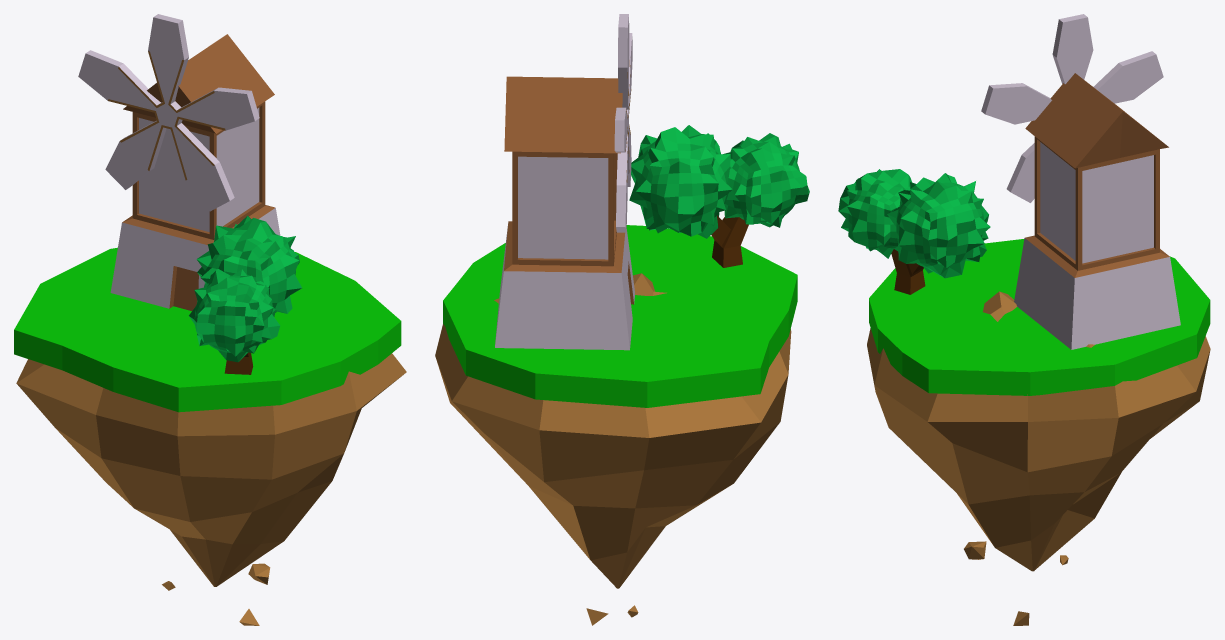
Rendered from mill.fbx.
The picture shows the model from 3 angles, left to right: view 1: azimuth 30°, elevation 25°; view 2: azimuth 150°, elevation 25°; view 3: azimuth 270°, elevation 25°; orthographic projection. The views are drawn at different scales.
Visible parts, largest first — view 1: Island, Green_platform, Mill, propeller, Tree; view 2: Island, Green_platform, Mill, Tree, propeller; view 3: Island, Mill, Green_platform, Tree, propeller.
Boxes of the visible parts, x1=… form: Island: x1=16, y1=353, x2=406, y2=625; Green_platform: x1=14, y1=247, x2=401, y2=412; Mill: x1=110, y1=34, x2=280, y2=310; propeller: x1=78, y1=14, x2=259, y2=211; Tree: x1=189, y1=215, x2=301, y2=374; Island: x1=435, y1=273, x2=791, y2=625; Green_platform: x1=443, y1=225, x2=797, y2=407; Mill: x1=495, y1=76, x2=634, y2=350; Tree: x1=629, y1=125, x2=809, y2=267; propeller: x1=614, y1=14, x2=632, y2=232; Island: x1=867, y1=291, x2=1210, y2=625; Mill: x1=1014, y1=73, x2=1180, y2=349; Green_platform: x1=869, y1=239, x2=1210, y2=395; Tree: x1=838, y1=169, x2=990, y2=294; propeller: x1=981, y1=14, x2=1163, y2=202.
Bounding box in the file's own units: 105 × 195 × 113.
